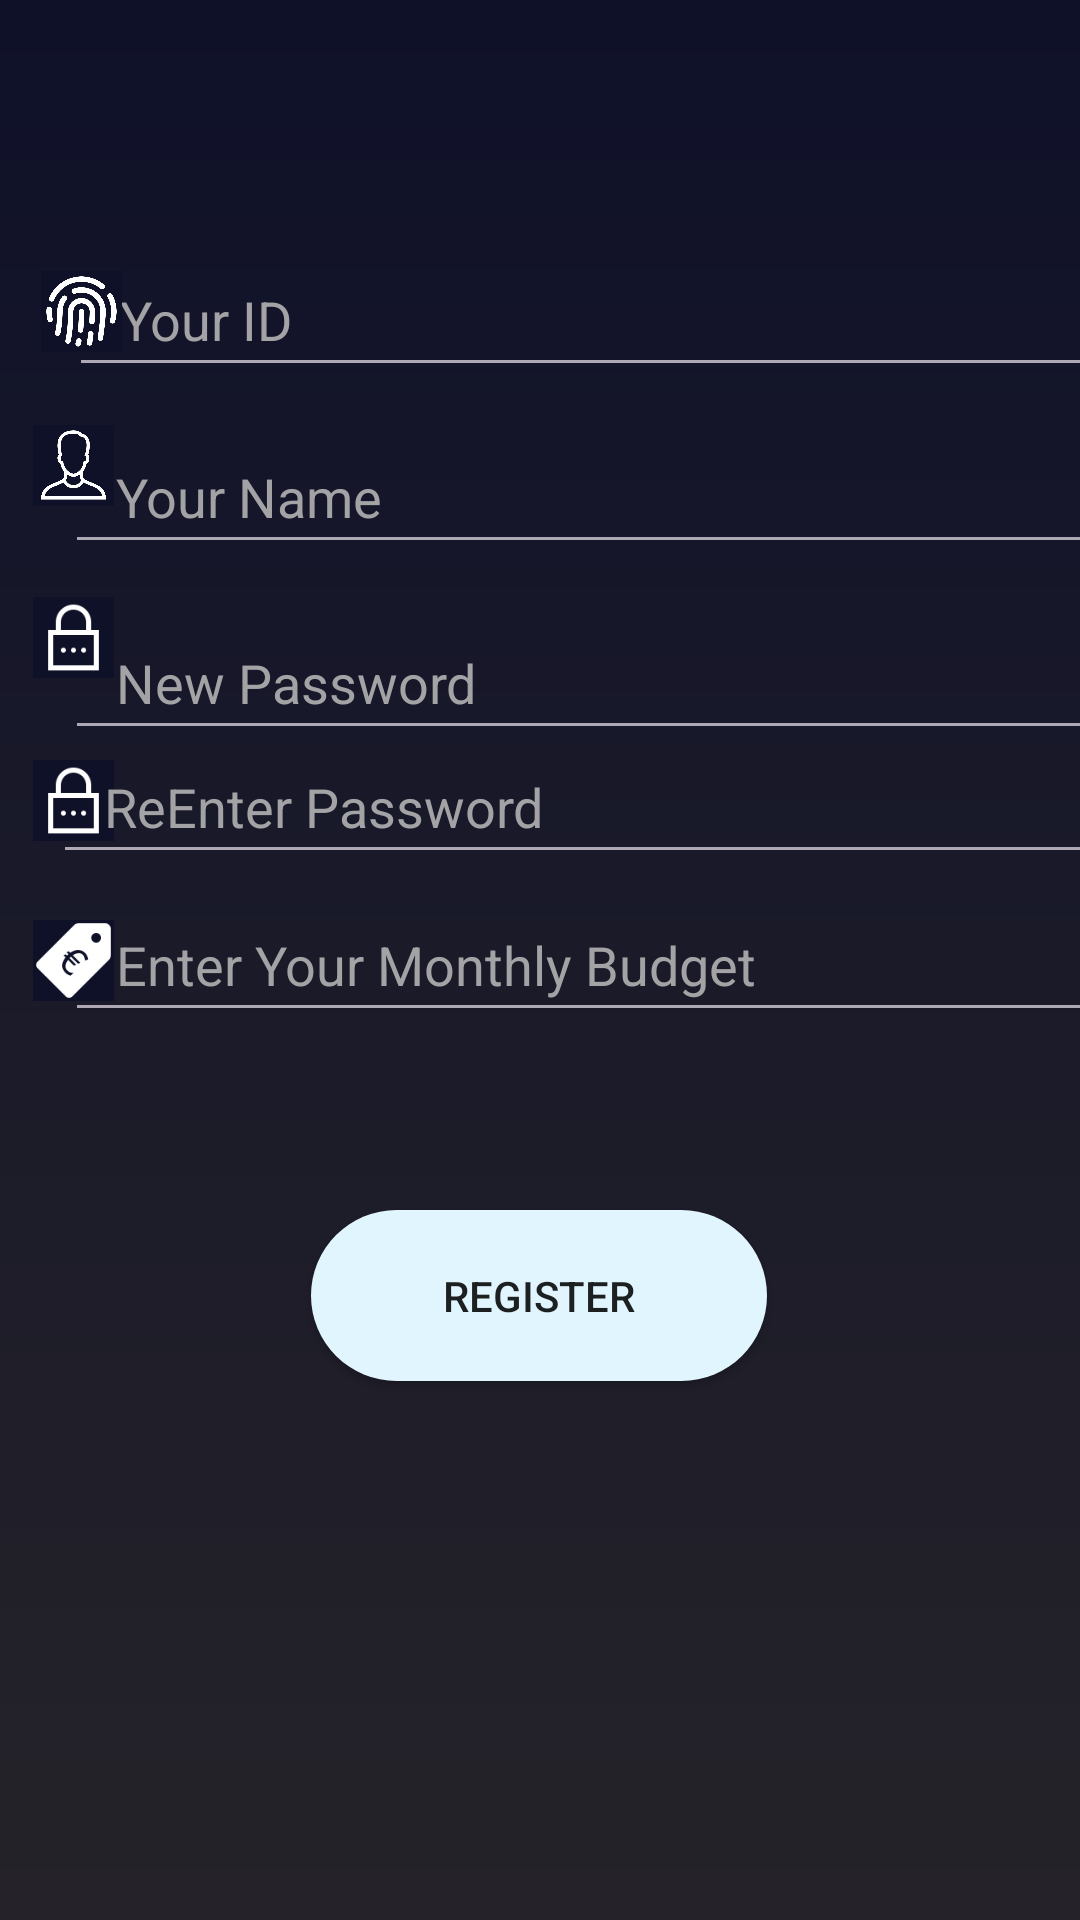

Screen size 1080w x 1920h. Icon name, then its box in pixels as box=[x1, y1, x2, y2]:
price: box=[36, 923, 111, 998]
